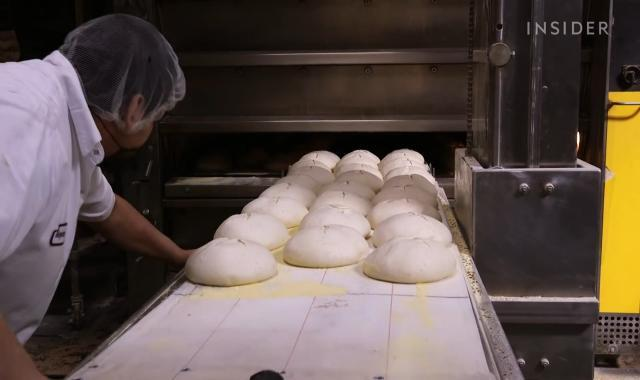Hairnet: (56, 13, 187, 133)
Mask: (94, 90, 152, 184)
No_Apron: (1, 52, 116, 380)
